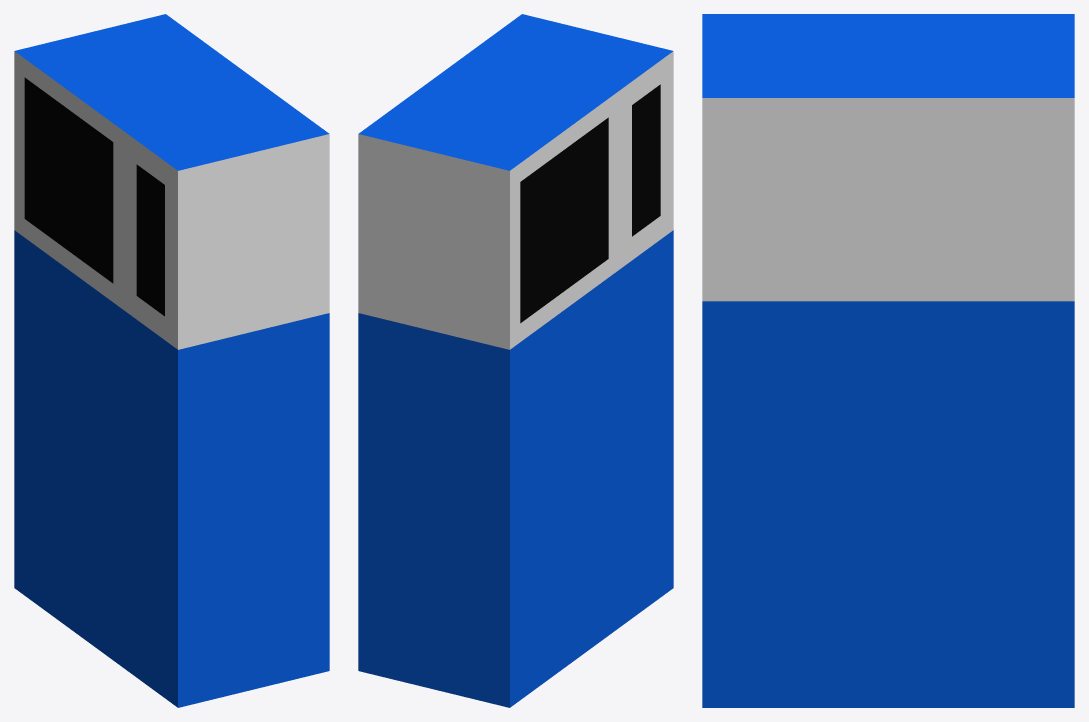
The model's file is oil.fbx.
3 views of the same model, side by side, from view 1: azimuth 30°, elevation 25°; view 2: azimuth 150°, elevation 25°; view 3: azimuth 270°, elevation 25° (orthographic). The views are drawn at different scales.
Parts seen in each view (by area): view 1: Box346; view 2: Box346; view 3: Box346.
Part boxes in pixels (<box>): Box346: <box>14,14,329,707</box>; Box346: <box>358,14,673,707</box>; Box346: <box>702,14,1074,707</box>.
Bounding box in the file's own units: 6.56 × 22.21 × 12.28.
